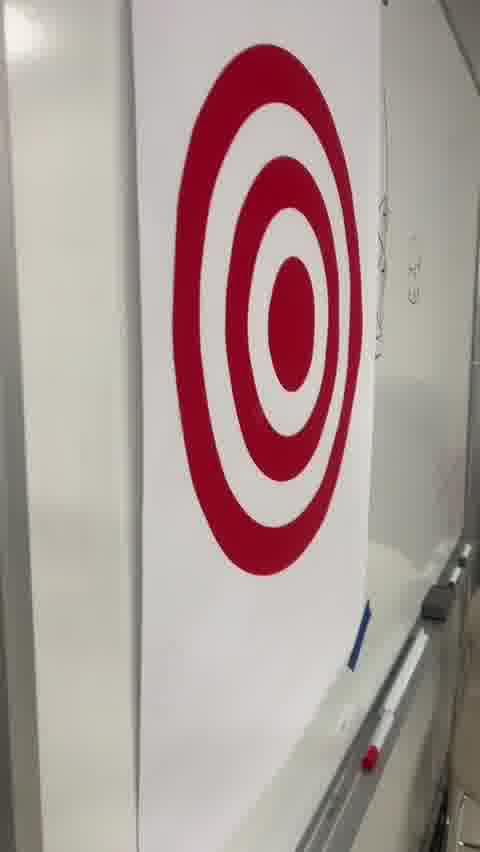target_red: (172, 43, 366, 577)
